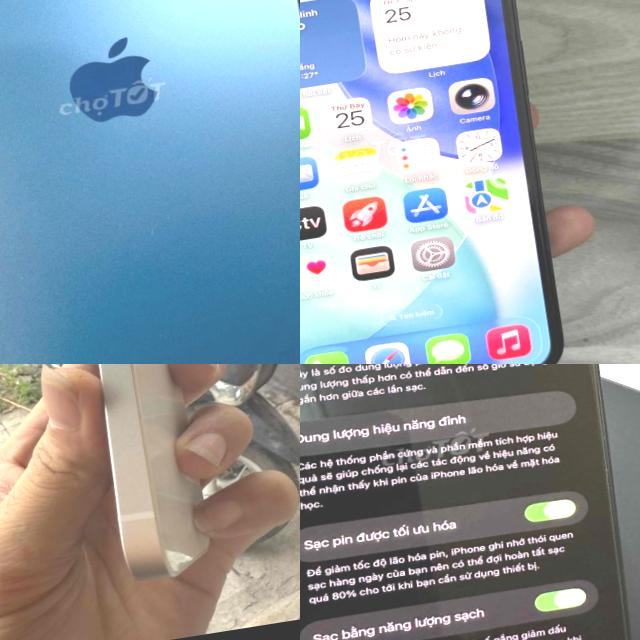gen_12_13: (0, 0, 300, 364), (300, 0, 588, 364), (300, 364, 640, 640), (51, 364, 219, 587)
